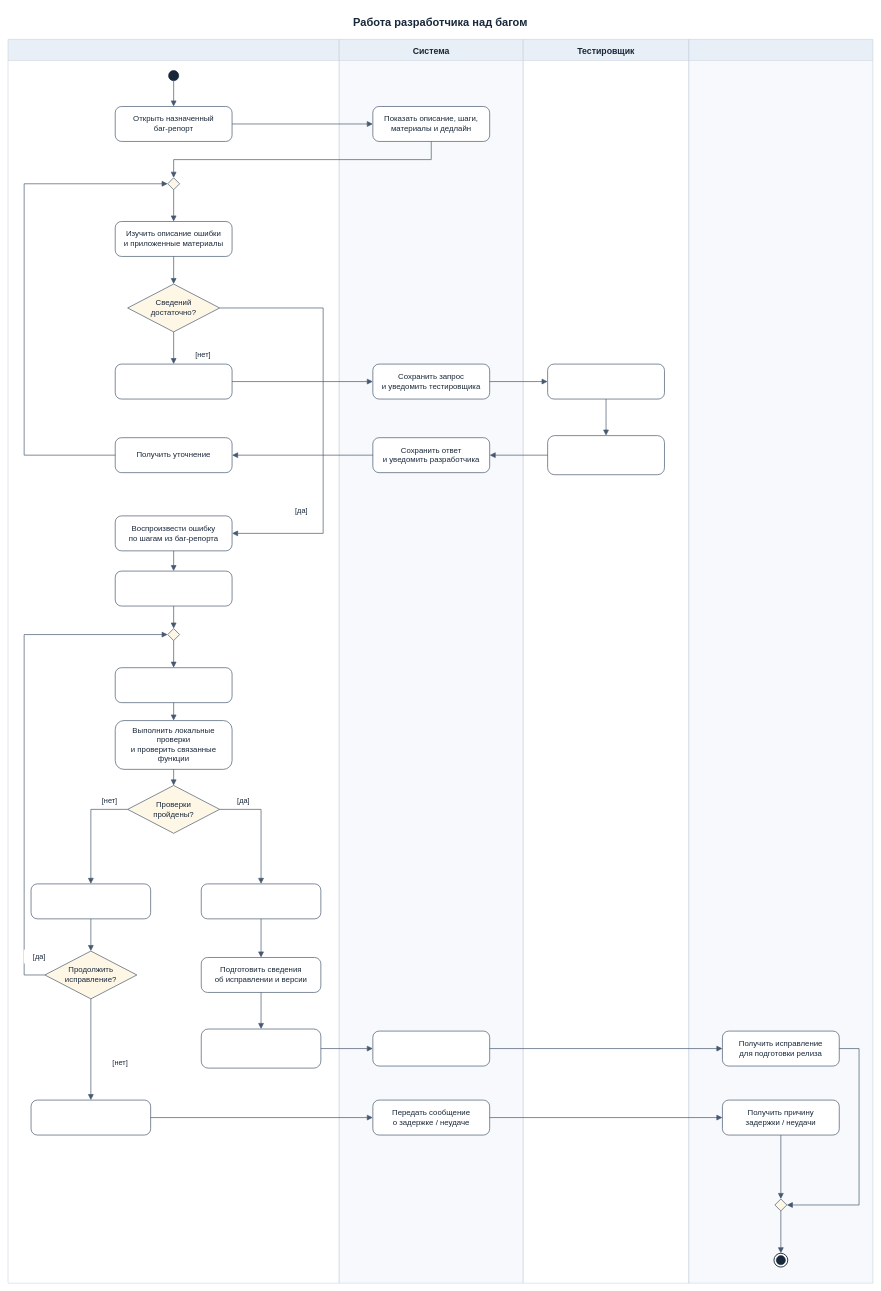
This 881x1291 diagram has some shape labels left out. Each missing label, with the box of its shape:
Внести изменения в код: (115, 667, 232, 703)
Зафиксировать изменения Создать коммит / MR: (201, 883, 321, 919)
Определить причину ошибки и способ исправления: (115, 571, 232, 606)
Отправить ответ и дополнительные материалы: (547, 435, 665, 475)
Отправить тестировщику запрос на уточнение: (115, 364, 232, 399)
Передать тим-лиду результат и ссылку на коммит / MR: (201, 1028, 321, 1068)
Разобрать результаты неуспешных проверок: (30, 883, 151, 919)
Разработчик: (8, 39, 339, 1283)
Сообщить тим-лиду причину задержки или неудачи: (30, 1100, 151, 1135)
Сохранить сообщение и уведомить тим-лида: (372, 1031, 490, 1066)
Тим-лид: (688, 39, 873, 1283)
Уточнить условия воспроизведения ошибки: (547, 364, 665, 399)
